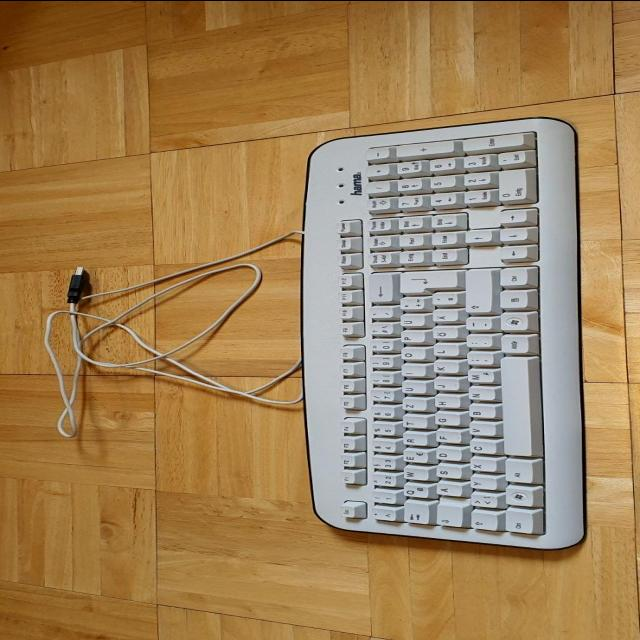0: (368, 340, 395, 352)
1: (370, 490, 398, 504)
2: (370, 472, 400, 487)
3: (369, 455, 401, 469)
4: (369, 439, 397, 452)
5: (369, 422, 397, 434)
6: (369, 406, 397, 418)
7: (369, 389, 397, 401)
8: (368, 372, 395, 384)
9: (368, 357, 395, 369)
a: (433, 483, 461, 497)
accent: (366, 307, 394, 319)
ae: (429, 310, 457, 323)
alt-left: (502, 460, 533, 485)
altgr-right: (498, 335, 528, 354)
b: (465, 405, 495, 419)
c: (467, 439, 495, 455)
caret: (370, 506, 398, 520)
comma: (463, 352, 493, 366)
d: (433, 448, 461, 462)
del: (367, 274, 392, 304)
e: (400, 449, 430, 464)
enter: (394, 271, 456, 295)
f: (432, 430, 460, 444)
g: (431, 413, 459, 427)
h: (432, 395, 460, 409)
hash: (428, 292, 458, 306)
i: (399, 365, 424, 377)
j: (431, 378, 459, 391)
k: (430, 361, 458, 373)
keyboard: (302, 110, 582, 556)
l: (429, 344, 457, 357)
less: (467, 492, 497, 509)
m: (465, 369, 495, 383)
minus: (462, 317, 490, 331)
n: (466, 387, 494, 401)
o: (399, 347, 425, 361)
oe: (429, 327, 457, 341)
p: (398, 332, 424, 344)
plus: (397, 298, 425, 312)
point: (463, 335, 491, 349)
q: (400, 483, 430, 499)
r: (401, 433, 427, 447)
s: (433, 465, 461, 479)
shift-left: (468, 512, 496, 532)
shift-lock: (433, 504, 463, 528)
shift-right: (462, 268, 494, 314)
space: (499, 358, 535, 458)
ss: (364, 323, 394, 337)
strg-left: (501, 510, 535, 535)
strg-right: (498, 268, 530, 287)
t: (401, 415, 427, 429)
tab: (401, 502, 429, 526)
u: (399, 381, 426, 395)
ue: (397, 314, 425, 328)
v: (465, 423, 495, 437)
w: (401, 467, 429, 481)
x: (467, 457, 495, 472)
y: (468, 475, 496, 491)
z: (400, 398, 428, 412)
